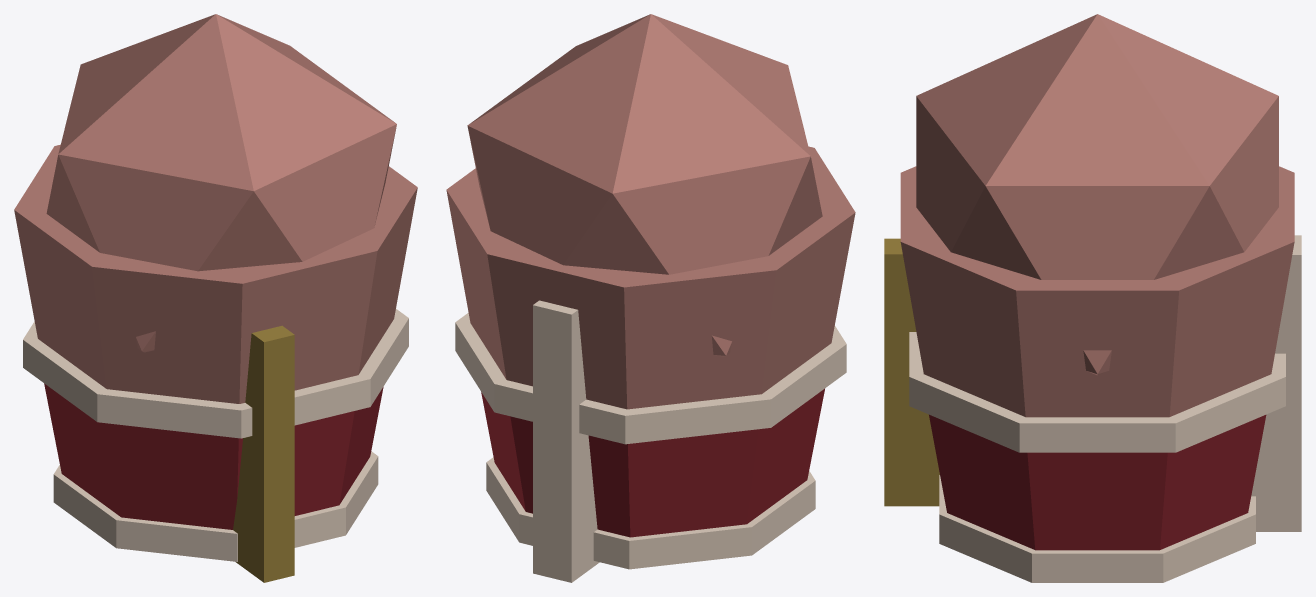
File: inf_v2_runner_upper_arm.fbx
3 renders of one model, left to right at view 1: azimuth 30°, elevation 25°; view 2: azimuth 150°, elevation 25°; view 3: azimuth 270°, elevation 25°, orthographic. The views are drawn at different scales.
Parts seen in each view (by area): view 1: inf_v2_runner_upper_arm; view 2: inf_v2_runner_upper_arm; view 3: inf_v2_runner_upper_arm.
Boxes of the visible parts, bbox=[...] form: inf_v2_runner_upper_arm: bbox=[14, 14, 417, 582]; inf_v2_runner_upper_arm: bbox=[446, 14, 855, 582]; inf_v2_runner_upper_arm: bbox=[884, 14, 1301, 582].
Size of the model in its own units: 85 by 121 by 90.
